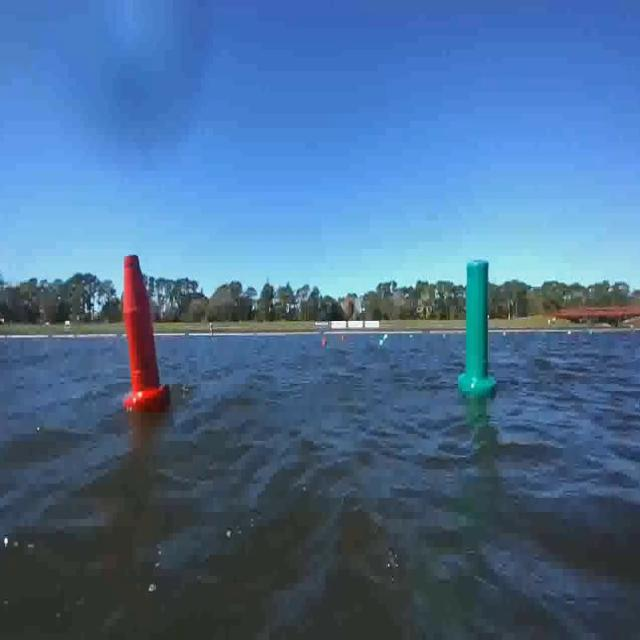green-column-buoy: (462, 261, 498, 398)
red-column-buoy: (121, 255, 171, 415)
